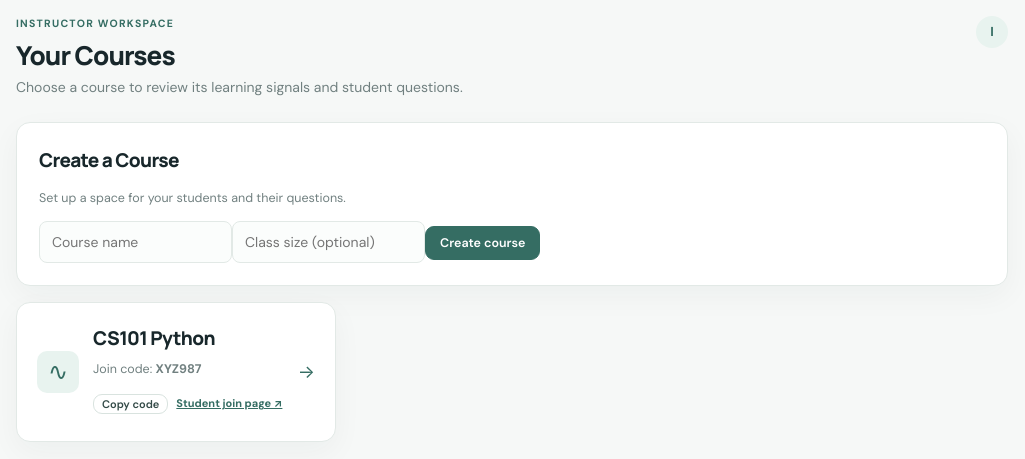
Test: Courses & Branding integration › provides dedicated copy-code and student-join actions on course cards
The width and height of the screenshot is (1025, 459).
Expected: the link "CS101 Python" is shown, [93,325,215,351]
Expected: the text "XYZ987" is shown, [156,362,201,378]
Click the button with aria-label "Copy join code for CS101 Python". click: (131, 404)
box: [93,394,168,414]
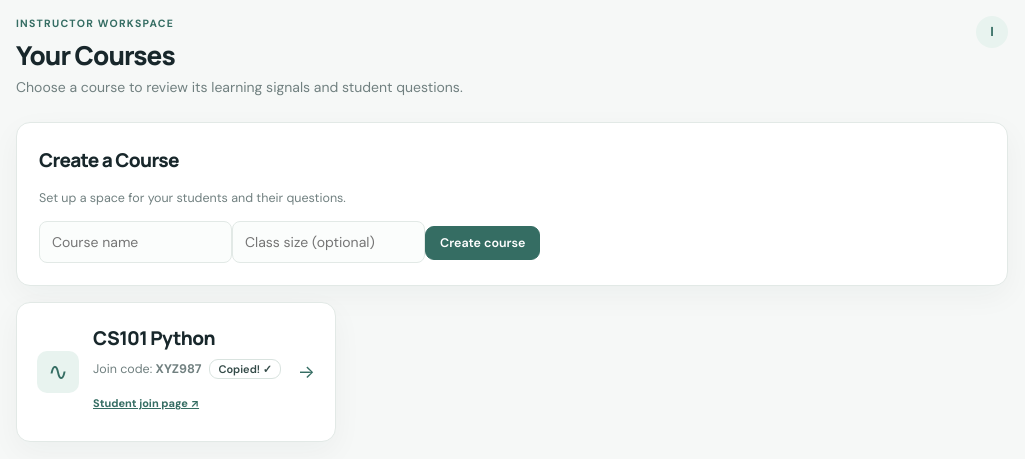
Expected: the link with aria-label "Open student join page for CS101 Python" is shown, [93,396,199,410]
Result: the button "Copied! ✓" is shown at [209,360,281,380]
